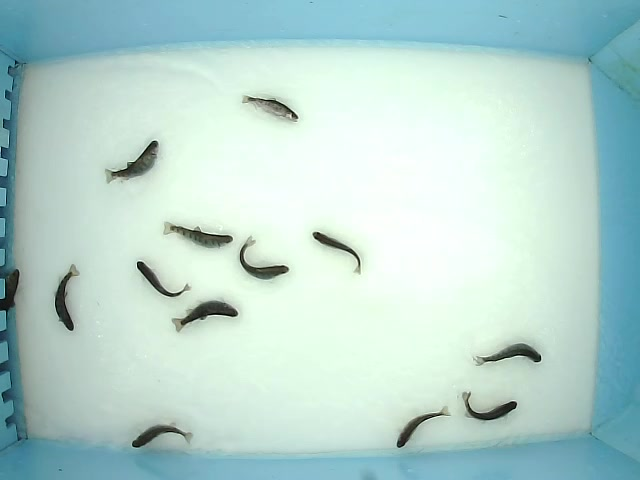fish: (103, 140, 160, 185), (171, 298, 239, 335), (396, 405, 452, 448), (239, 235, 290, 282), (311, 231, 363, 276), (136, 260, 193, 298), (461, 390, 518, 425), (163, 221, 234, 249), (471, 341, 542, 368), (54, 263, 81, 332), (239, 93, 299, 124)
